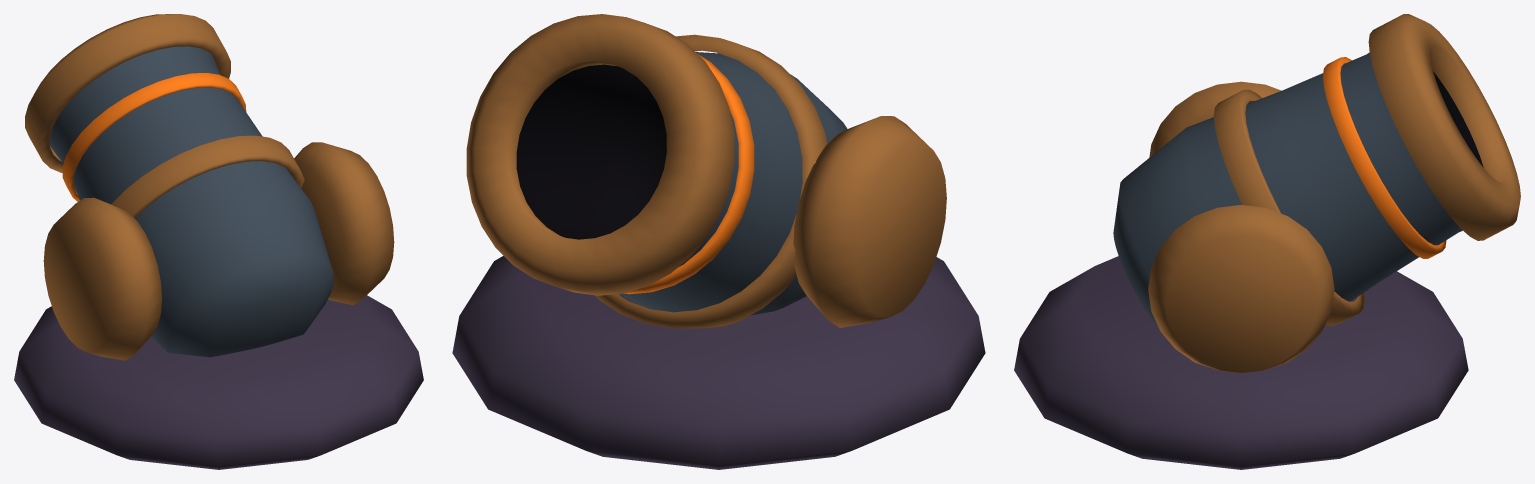
File: volcanic_mortar.obj
3 renders of one model, left to right at view 1: azimuth 30°, elevation 25°; view 2: azimuth 150°, elevation 25°; view 3: azimuth 270°, elevation 25°, orthographic. The views are drawn at different scales.
Parts seen in each view (by area): view 1: volcanic_mortar; view 2: volcanic_mortar; view 3: volcanic_mortar.
Part boxes in pixels (x1=…): volcanic_mortar: x1=14, y1=14, x2=423, y2=469; volcanic_mortar: x1=452, y1=14, x2=985, y2=469; volcanic_mortar: x1=1014, y1=14, x2=1520, y2=469.
Bounding box in the file's own units: 3.9 × 3.41 × 4.35.
